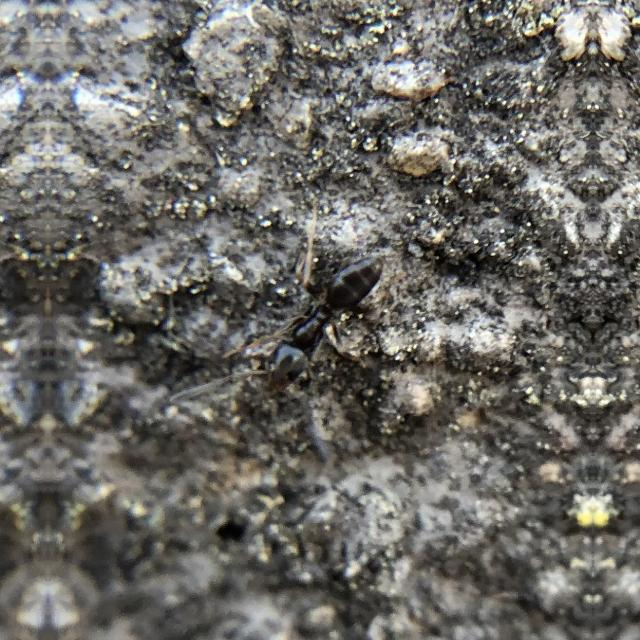Tapinoma: (238, 224, 404, 408)
